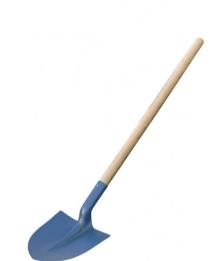PELLE: (24, 22, 218, 261)
